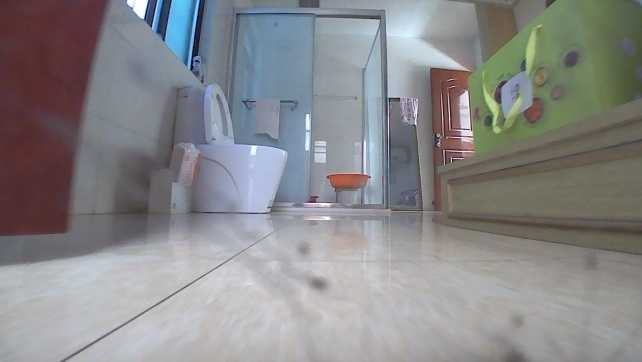toilet: (172, 80, 291, 215)
